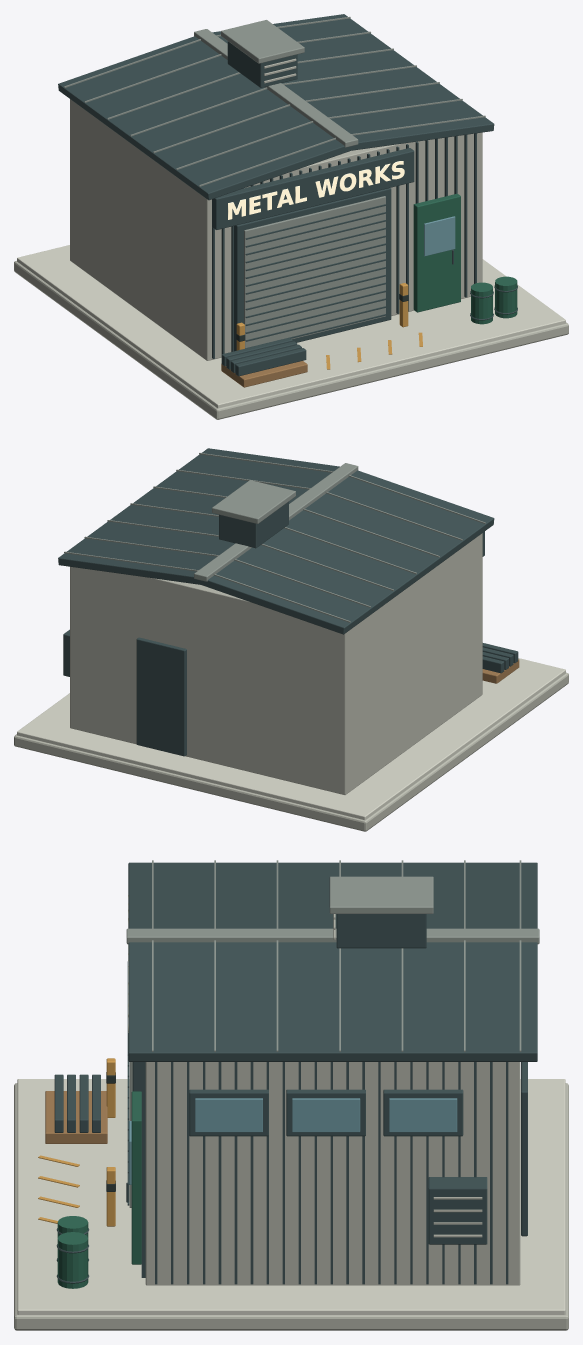
The model's file is small-2x2-metalworks-01.glb.
The picture shows the model from 3 angles, top to bottom: view 1: azimuth 30°, elevation 25°; view 2: azimuth 150°, elevation 25°; view 3: azimuth 270°, elevation 25°; orthographic projection. The views are drawn at different scales.
Parts seen in each view (by area): view 1: WorkshopBody, RoofSheet, ConcreteYard, RoofSheet.001, RollerShutter, Lot_2x2, Sign, WorkerDoor, ShutterFrame, VentCap, WorkshopSign, RidgeCap (+8 smaller); view 2: WorkshopBody, RoofSheet, ConcreteYard, RoofSheet.001, Lot_2x2, RearDoor, VentCap, RidgeCap, RoofVent; view 3: WorkshopBody, RoofSheet.001, ConcreteYard, RoofSheet, Lot_2x2, RidgeCap, VentCap, Extractor, RoofVent, HighWindow.001, HighWindow.002, HighWindow (+20 smaller).
Part boxes in pixels (x1,y1,x2,y2): WorkshopBody: (70, 99, 482, 360); RoofSheet: (58, 36, 352, 200); ConcreteYard: (17, 245, 565, 408); RoofSheet.001: (212, 14, 494, 150); RollerShutter: (244, 196, 385, 348); Lot_2x2: (14, 261, 568, 419); Sign: (212, 148, 414, 229); WorkerDoor: (413, 193, 460, 312); ShutterFrame: (234, 188, 391, 351); VentCap: (221, 20, 304, 63); WorkshopSign: (228, 161, 404, 219); RidgeCap: (194, 29, 358, 147); WorkshopBody: (70, 533, 482, 794); RoofSheet: (199, 470, 494, 634); ConcreteYard: (17, 658, 565, 820); RoofSheet.001: (58, 448, 339, 584); Lot_2x2: (14, 672, 568, 831); RearDoor: (136, 637, 186, 756); VentCap: (212, 480, 295, 523); RidgeCap: (194, 463, 358, 581); RoofVent: (219, 501, 288, 548); WorkshopBody: (145, 1062, 520, 1285); RoofSheet.001: (128, 942, 537, 1061); ConcreteYard: (17, 1079, 565, 1314); RoofSheet: (128, 862, 537, 928); Lot_2x2: (14, 1083, 568, 1330); RidgeCap: (126, 928, 539, 944); VentCap: (329, 876, 433, 913); Extractor: (428, 1177, 487, 1244); RoofVent: (336, 914, 426, 948); HighWindow.001: (292, 1098, 360, 1132); HighWindow.002: (389, 1098, 457, 1132); HighWindow: (195, 1098, 262, 1132).
Bounding box in the file's own units: 8 × 5.18 × 8.
